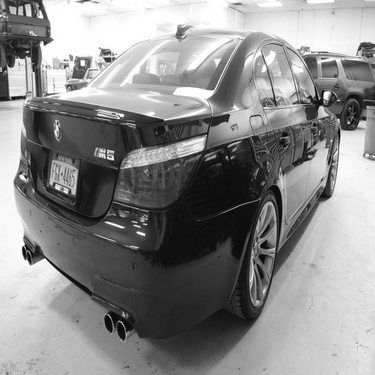car: (13, 19, 344, 342), (296, 57, 371, 133), (1, 1, 60, 69)
